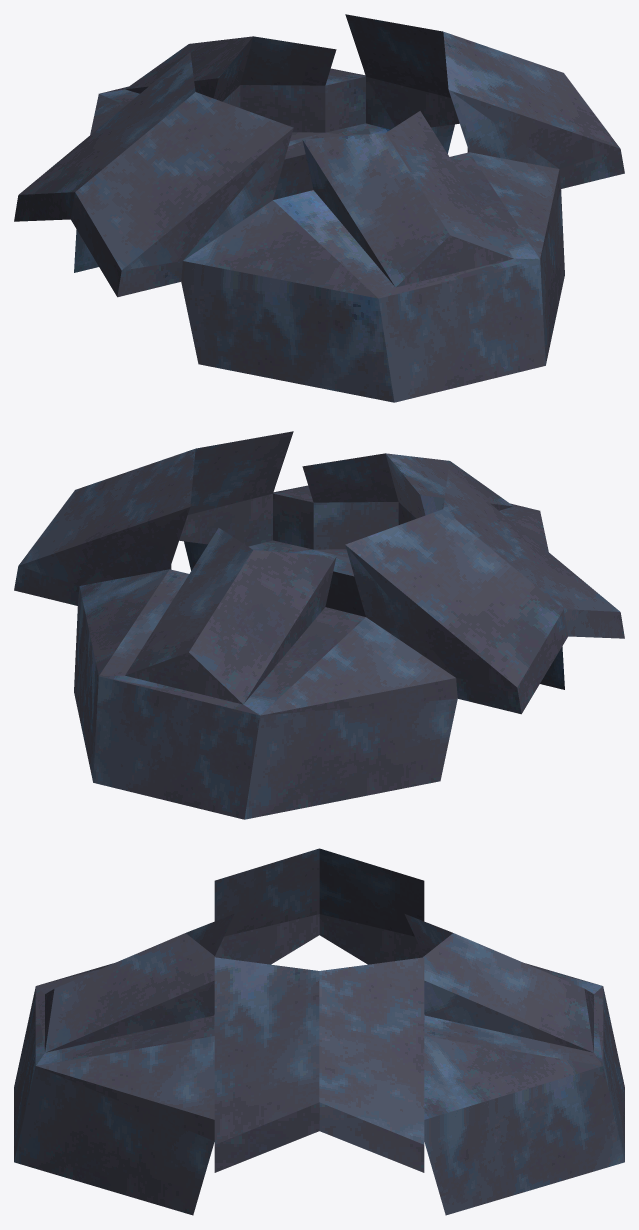
Rendered from shell_upgrade.gltf.
3 renders of one model, top to bottom at view 1: azimuth 30°, elevation 25°; view 2: azimuth 150°, elevation 25°; view 3: azimuth 270°, elevation 25°, orthographic.
Parts seen in each view (by area): view 1: Shell; view 2: Shell; view 3: Shell.
Boxes of the visible parts, x1,y1,x2,y2 form: Shell: (14, 14, 624, 402); Shell: (14, 431, 624, 819); Shell: (14, 848, 624, 1215).
Bounding box in the file's own units: 1.69 × 0.6757 × 1.74.
Materials: 1 (1 with a texture image).
